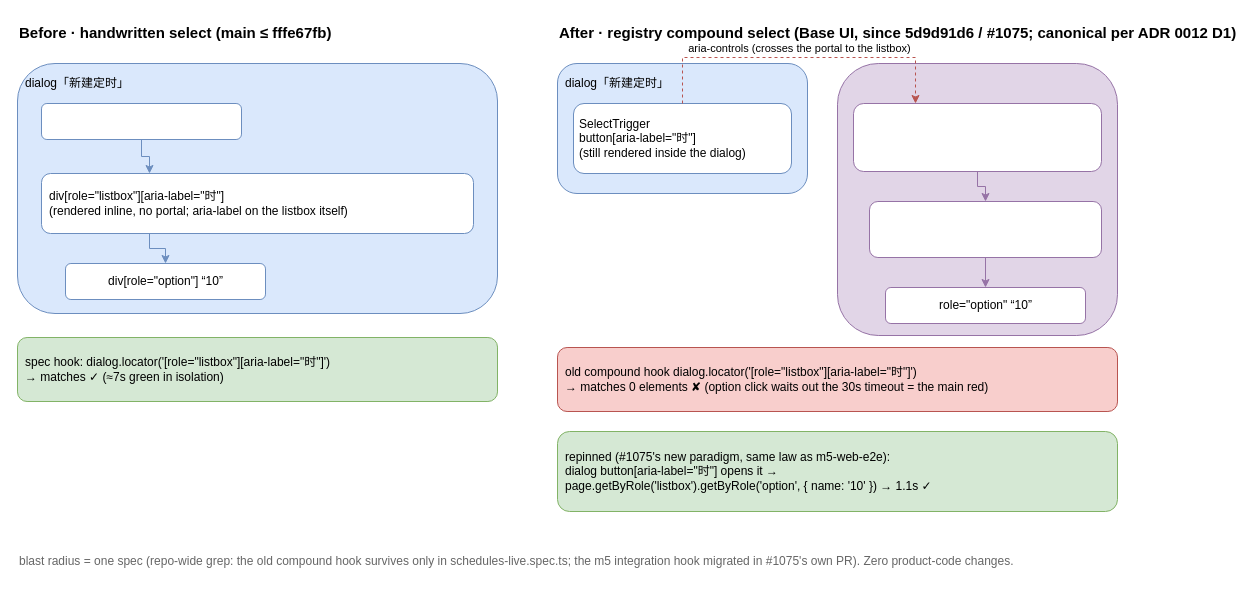
This 1254x598 diagram has some shape labels left out. The shapes that lost their labels are listed below. From the top down, each one's box as (x1, y1, x2, y2) in pixels, then its label:
(40, 102, 242, 140): button[aria-label="时"]
(852, 102, 1102, 172): Popup role="presentation" (aria-label="时" lands here, not on the listbox)
(836, 62, 1118, 336): Portal → document.body (popup leaves the dialog subtree)
(868, 200, 1102, 258): Select.List role="listbox" (own aria-label always null)
